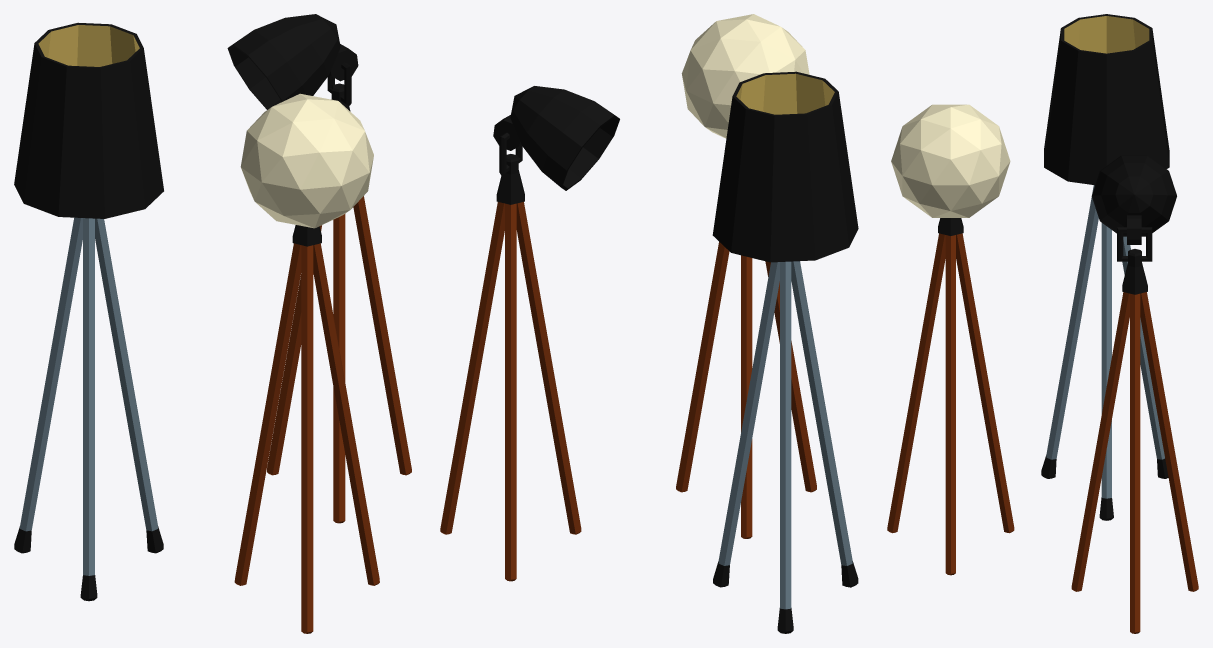
The model's file is Asset_Lights.fbx.
3 renders of one model, left to right at view 1: azimuth 30°, elevation 25°; view 2: azimuth 150°, elevation 25°; view 3: azimuth 270°, elevation 25°, orthographic. The views are drawn at different scales.
Visible parts, largest first — view 1: Cylinder409, GeoSphere001, Cylinder405, Cylinder400, Cylinder402, Cylinder403, Cylinder401, Cylinder396, Cylinder397, Cylinder398; view 2: Cylinder409, Cylinder405, GeoSphere001, Cylinder400, Cylinder398, Cylinder397, Cylinder396, Cylinder401, Cylinder403, Cylinder402, Cylinder399; view 3: Cylinder409, GeoSphere001, Cylinder405, Cylinder400, Cylinder396, Cylinder401, Cylinder398, Cylinder402, Cylinder397, Cylinder403, Cylinder399, Rectangle001.
Boxes of the visible parts, x1=… form: Cylinder409: x1=14, y1=22, x2=163, y2=218; GeoSphere001: x1=240, y1=93, x2=373, y2=228; Cylinder405: x1=14, y1=217, x2=163, y2=601; Cylinder400: x1=227, y1=14, x2=358, y2=109; Cylinder402: x1=301, y1=245, x2=313, y2=633; Cylinder403: x1=234, y1=243, x2=301, y2=585; Cylinder401: x1=313, y1=243, x2=379, y2=585; Cylinder396: x1=353, y1=196, x2=411, y2=475; Cylinder397: x1=333, y1=214, x2=345, y2=523; Cylinder398: x1=267, y1=225, x2=321, y2=475; Cylinder409: x1=712, y1=71, x2=858, y2=262; Cylinder405: x1=713, y1=261, x2=858, y2=633; GeoSphere001: x1=681, y1=14, x2=809, y2=138; Cylinder400: x1=493, y1=86, x2=619, y2=190; Cylinder398: x1=505, y1=203, x2=516, y2=581; Cylinder397: x1=516, y1=202, x2=581, y2=534; Cylinder396: x1=440, y1=202, x2=504, y2=534; Cylinder401: x1=676, y1=242, x2=729, y2=492; Cylinder403: x1=741, y1=255, x2=752, y2=538; Cylinder402: x1=765, y1=261, x2=816, y2=492; Cylinder399: x1=496, y1=154, x2=524, y2=204; Cylinder409: x1=1044, y1=14, x2=1169, y2=185; GeoSphere001: x1=891, y1=104, x2=1010, y2=217; Cylinder405: x1=1041, y1=185, x2=1168, y2=520; Cylinder400: x1=1091, y1=155, x2=1176, y2=244; Cylinder396: x1=1130, y1=293, x2=1140, y2=633; Cylinder401: x1=945, y1=235, x2=955, y2=575; Cylinder398: x1=1140, y1=292, x2=1198, y2=591; Cylinder402: x1=887, y1=233, x2=945, y2=533; Cylinder397: x1=1071, y1=292, x2=1129, y2=591; Cylinder403: x1=956, y1=233, x2=1014, y2=533; Cylinder399: x1=1122, y1=249, x2=1147, y2=294; Rectangle001: x1=1117, y1=227, x2=1152, y2=261.
Size of the model in its own units: 137 by 169 by 104.
